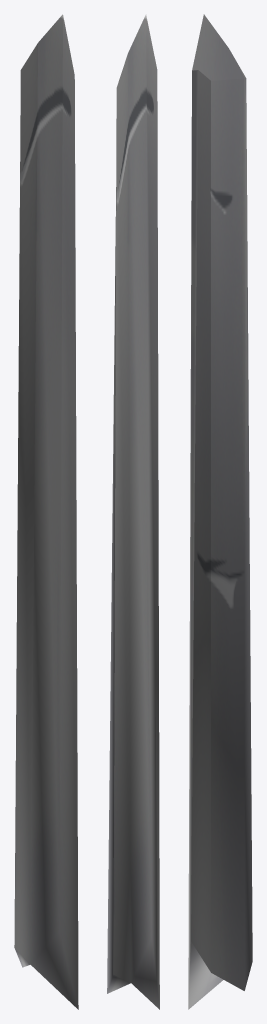
File: sword_top.fbx
3 views of the same model, side by side, from view 1: azimuth 90°, elevation 25°; view 2: azimuth 150°, elevation 25°; view 3: azimuth 270°, elevation 25° (orthographic).
Visible parts, largest first — view 1: Cylinder; view 2: Cylinder; view 3: Cylinder.
Boxes of the visible parts, x1,y1,x2,y2 form: Cylinder: (14,14,78,1009); Cylinder: (107,14,159,1009); Cylinder: (188,14,252,1009).
Size of the model in its own units: 4.65 by 139 by 8.13.
1 material, 1 textured.
